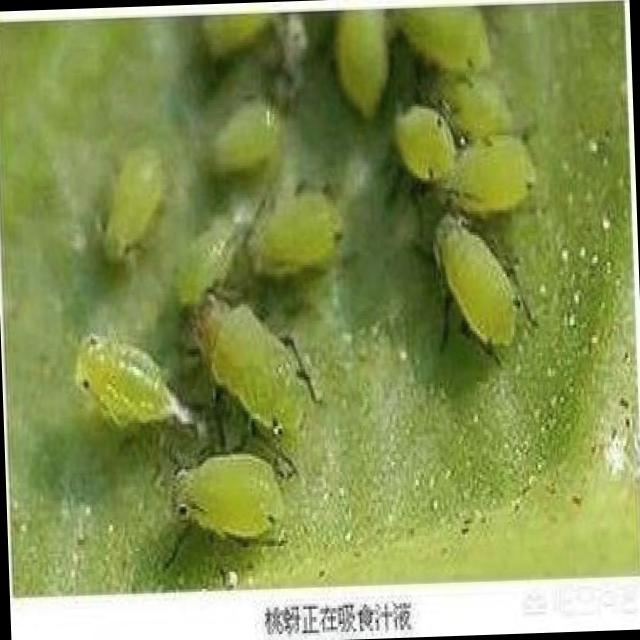Aphids: (400, 192, 548, 392), (181, 261, 331, 447), (144, 424, 320, 579), (70, 326, 184, 444), (94, 150, 175, 280), (447, 123, 547, 226), (240, 189, 354, 271), (330, 0, 394, 132), (394, 6, 501, 82), (204, 88, 290, 170), (176, 206, 238, 310), (393, 99, 452, 190)
